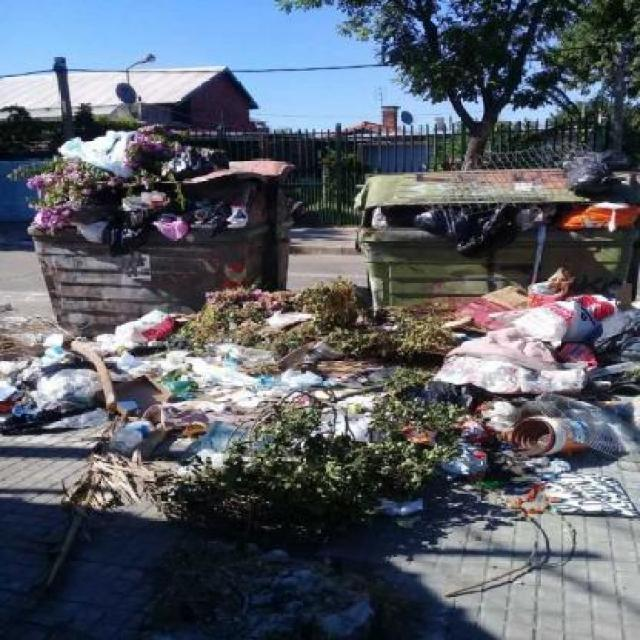garbage: (6, 136, 640, 639)
